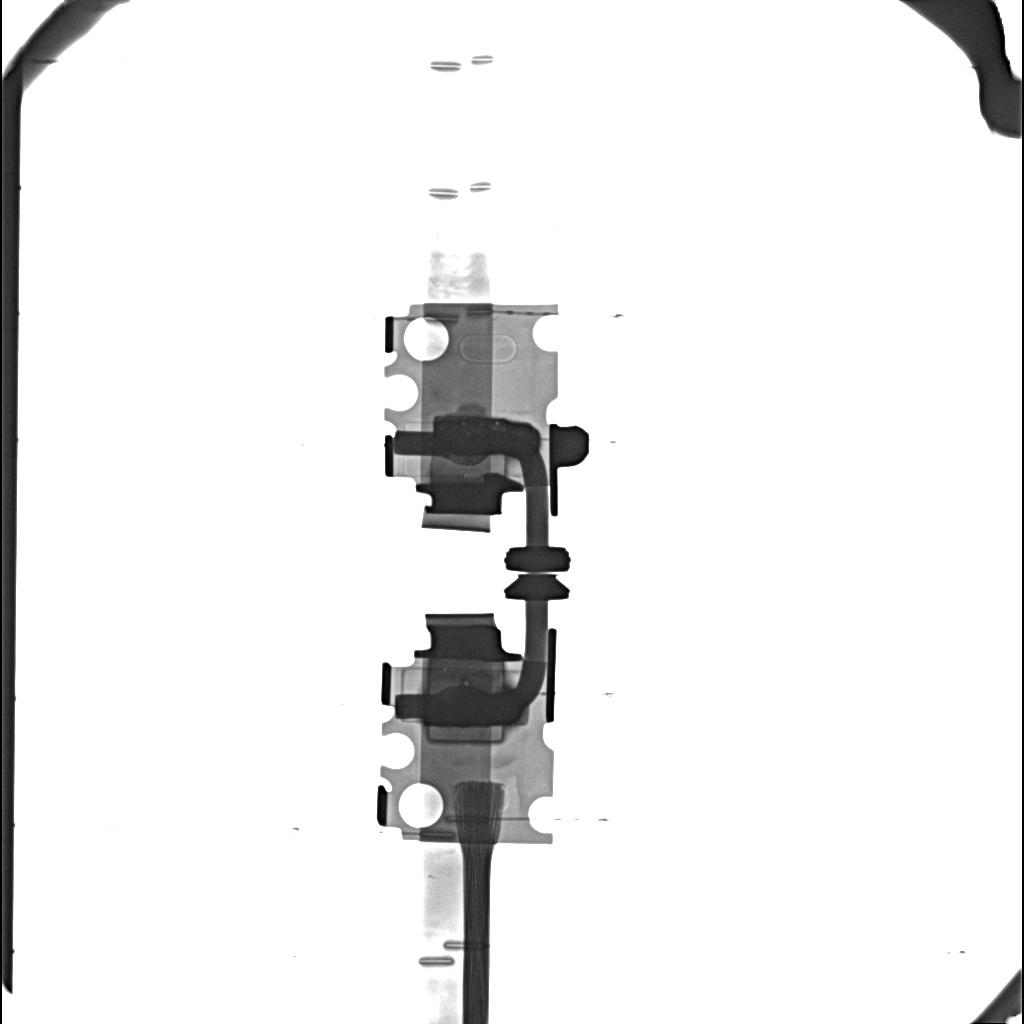PX: (427, 726, 504, 743)
SX: (432, 418, 539, 459), (425, 687, 521, 725)
